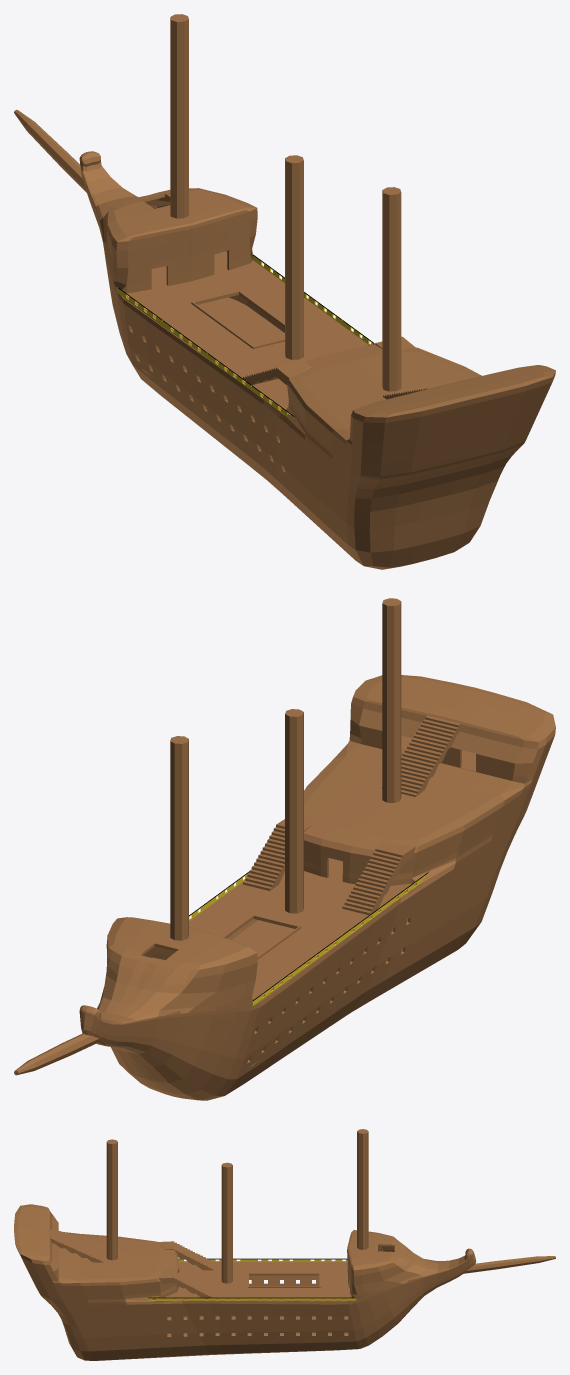
The model's file is ship_top_t2.glb.
3 renders of one model, top to bottom at view 1: azimuth 30°, elevation 25°; view 2: azimuth 150°, elevation 25°; view 3: azimuth 270°, elevation 25°, orthographic. The views are drawn at different scales.
Parts seen in each view (by area): view 1: outer detail, 0F, sails 1, sails 2, 1B, Plane, ship spike, Cube.001; view 2: outer detail, 0F, sails 1, Cube.001, sails 2, Cube, Plane, ship spike, 1B; view 3: outer detail, 0F, sails 1, sails 2, Cube.001, Plane, Cube, ship spike.
Part boxes in pixels (x1,y1,x2,y2): outer detail: [79, 151, 555, 569]; 0F: [123, 251, 367, 415]; sails 1: [285, 155, 401, 391]; sails 2: [170, 14, 188, 218]; 1B: [198, 297, 284, 345]; Plane: [117, 254, 373, 417]; ship spike: [14, 109, 86, 192]; Cube.001: [243, 336, 415, 385]; outer detail: [79, 675, 555, 1100]; 0F: [152, 858, 421, 1002]; sails 1: [285, 598, 401, 913]; Cube.001: [243, 819, 415, 914]; sails 2: [170, 736, 188, 940]; Cube: [382, 715, 460, 796]; Plane: [189, 871, 429, 1005]; ship spike: [14, 1033, 98, 1075]; 1B: [232, 919, 407, 956]; outer detail: [14, 1204, 476, 1360]; 0F: [150, 1262, 351, 1301]; sails 1: [106, 1139, 232, 1283]; sails 2: [357, 1129, 368, 1249]; Cube.001: [158, 1241, 213, 1298]; Plane: [146, 1258, 356, 1300]; Cube: [50, 1229, 103, 1262]; ship spike: [464, 1256, 555, 1273].
Bounding box in the file's own units: 49.75 × 92.81 × 205.
